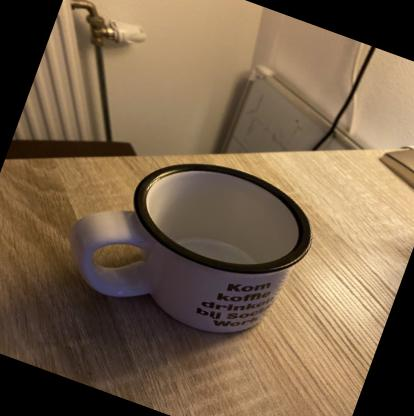Cup: (47, 117, 332, 364)
